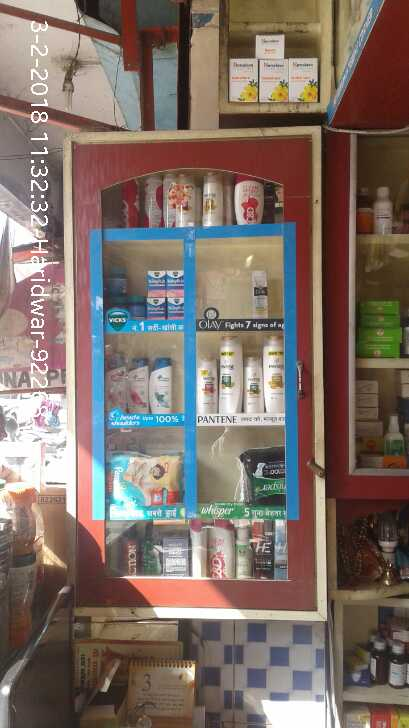vicks: (106, 264, 186, 325)
